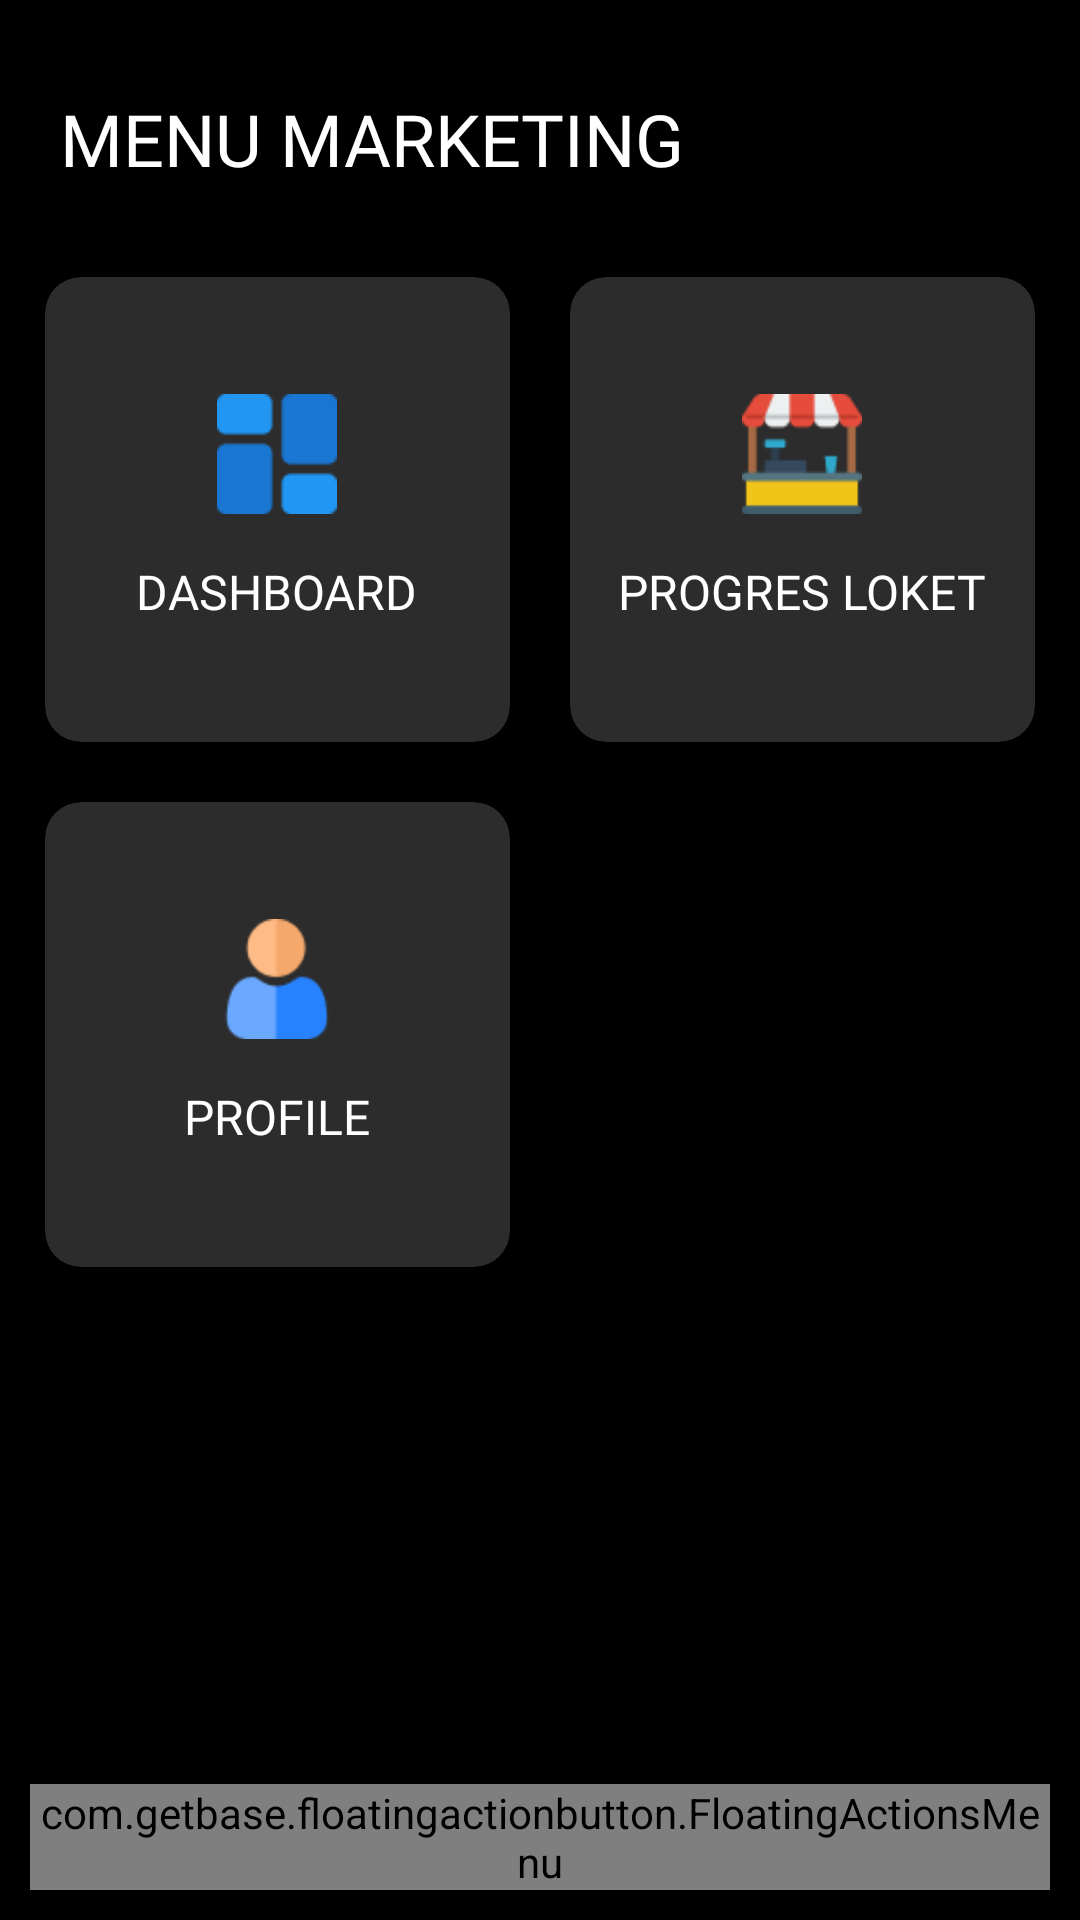

Where to tap for icons on this 1080*1920 app screen, as point (x, y):
user: point (276, 979)
